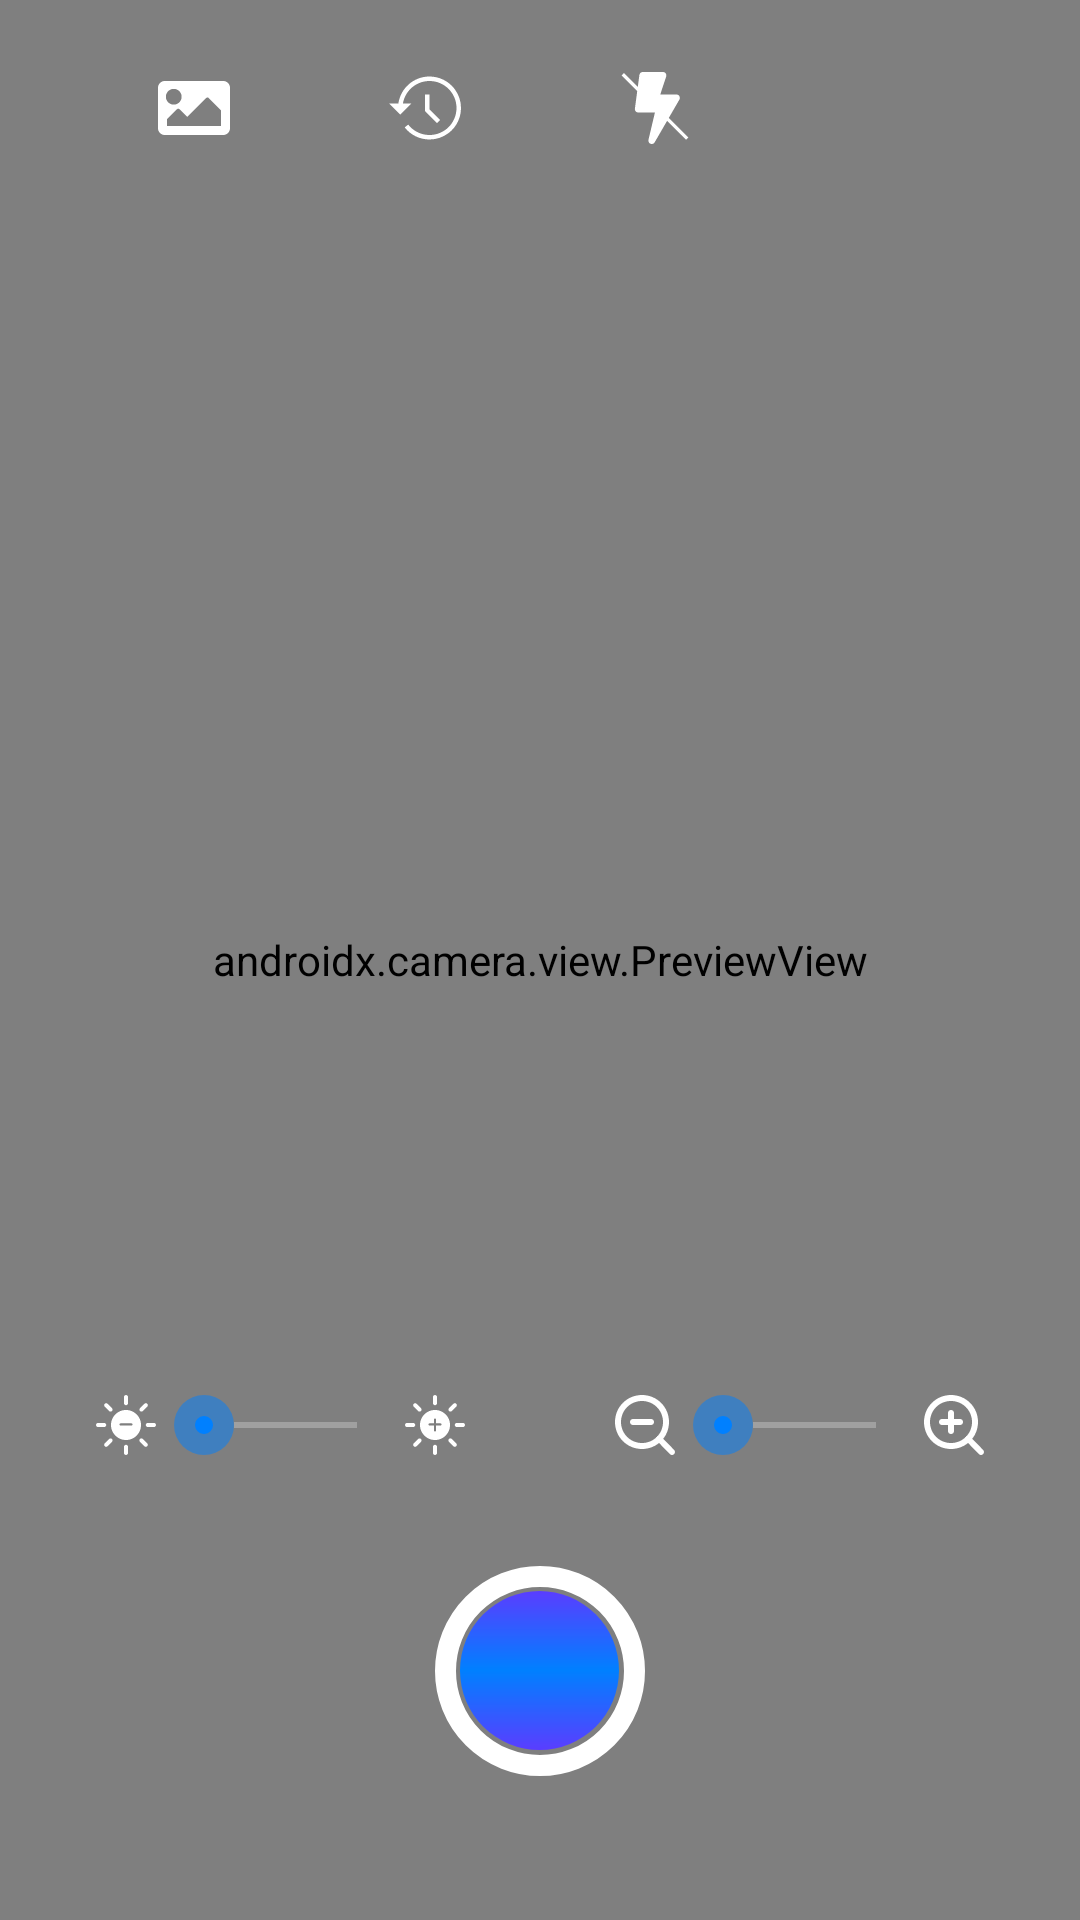

Named icons in this screenshot (1080 × 1920) and their bounding boxes, (x1, y1, x2, y2):
bright decrease: (96, 1395, 156, 1455)
bright increase: (405, 1395, 465, 1455)
flash off: (622, 72, 688, 144)
history: (389, 76, 461, 140)
zoom in: (924, 1395, 984, 1455)
zoom out: (615, 1395, 675, 1455)
